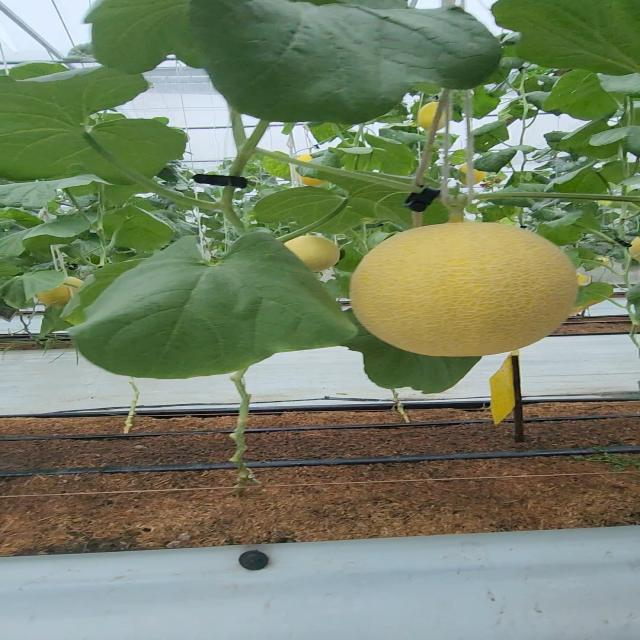Melon: (342, 222, 582, 361)
